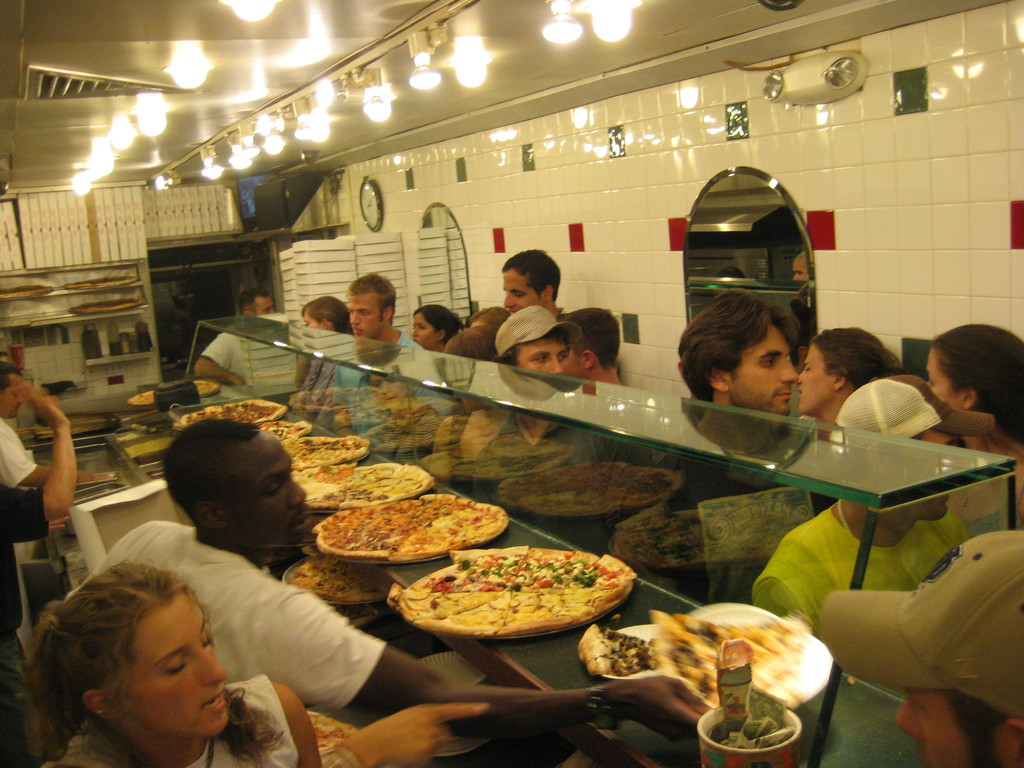pizza: (392, 548, 641, 639), (580, 613, 790, 698), (315, 491, 506, 563), (305, 458, 428, 504), (182, 401, 286, 428), (283, 433, 365, 461), (260, 422, 316, 440)
